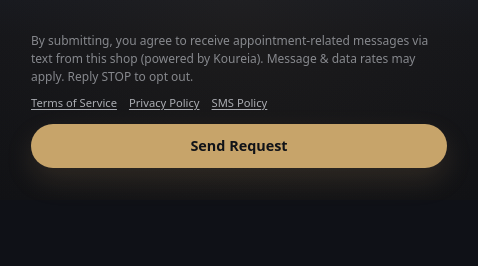
Scenario: RequestRenderer after-hours submit flow › creates a pending regular hold and shows request-received copy
Click the button "Send Request" at [239, 146], box [31,124,447,168]
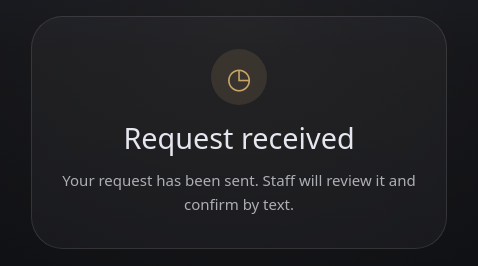
expect the heading "Request received" is shown: met, box [123,118,355,157]
expect the text "Your request has been sent. Staff will review it and confirm by text." is shown: met, box [56,168,422,216]
